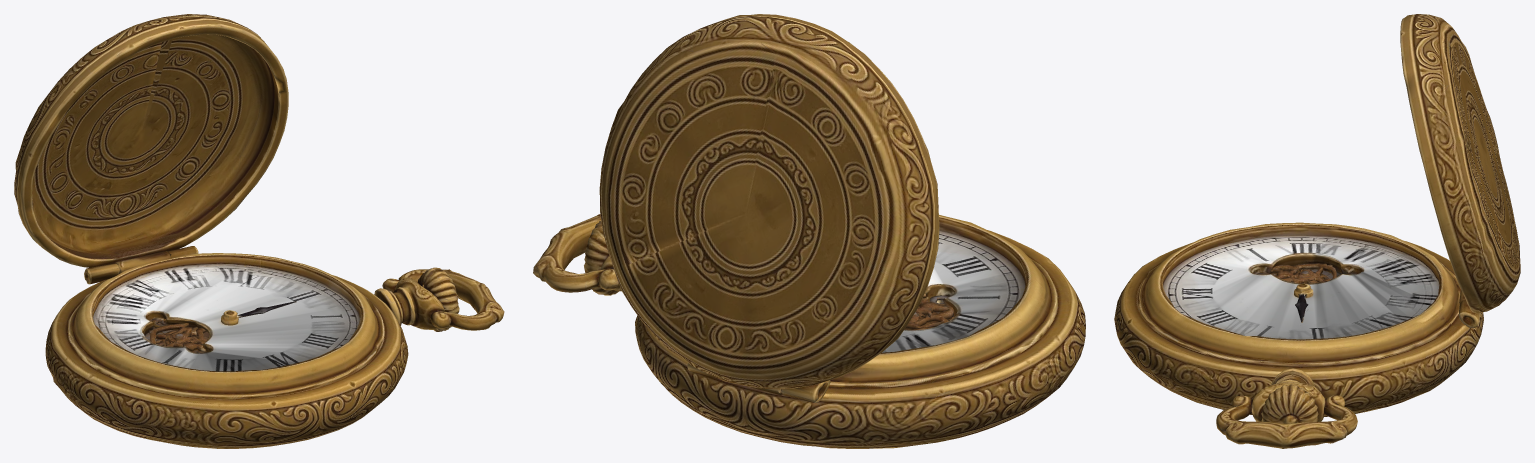
Rendered from pocket_watch.glb.
The picture shows the model from 3 angles, left to right: view 1: azimuth 30°, elevation 25°; view 2: azimuth 150°, elevation 25°; view 3: azimuth 270°, elevation 25°; orthographic projection. The views are drawn at different scales.
Bounding box in the file's own units: 0.9497 × 0.7066 × 0.8033.
1 material, 1 textured.
